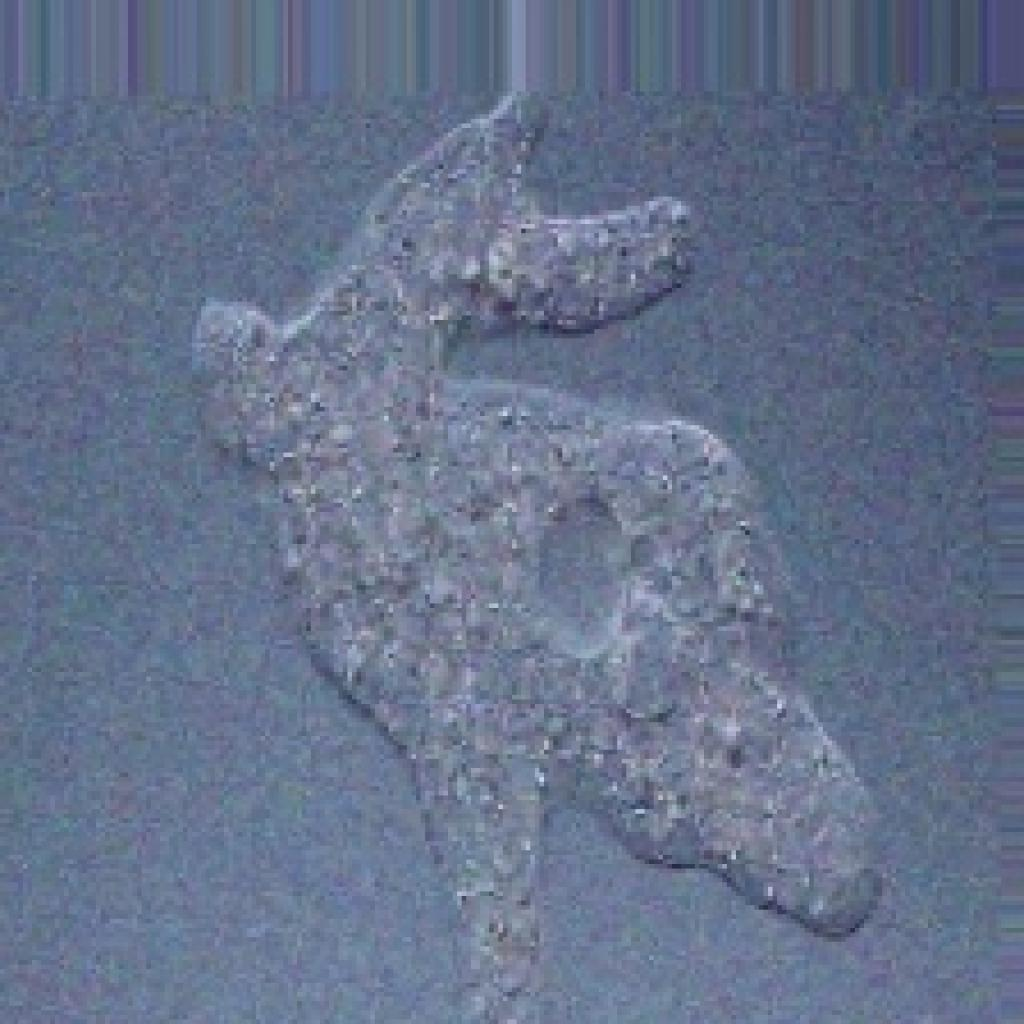Amoeba: (183, 87, 887, 1019)
